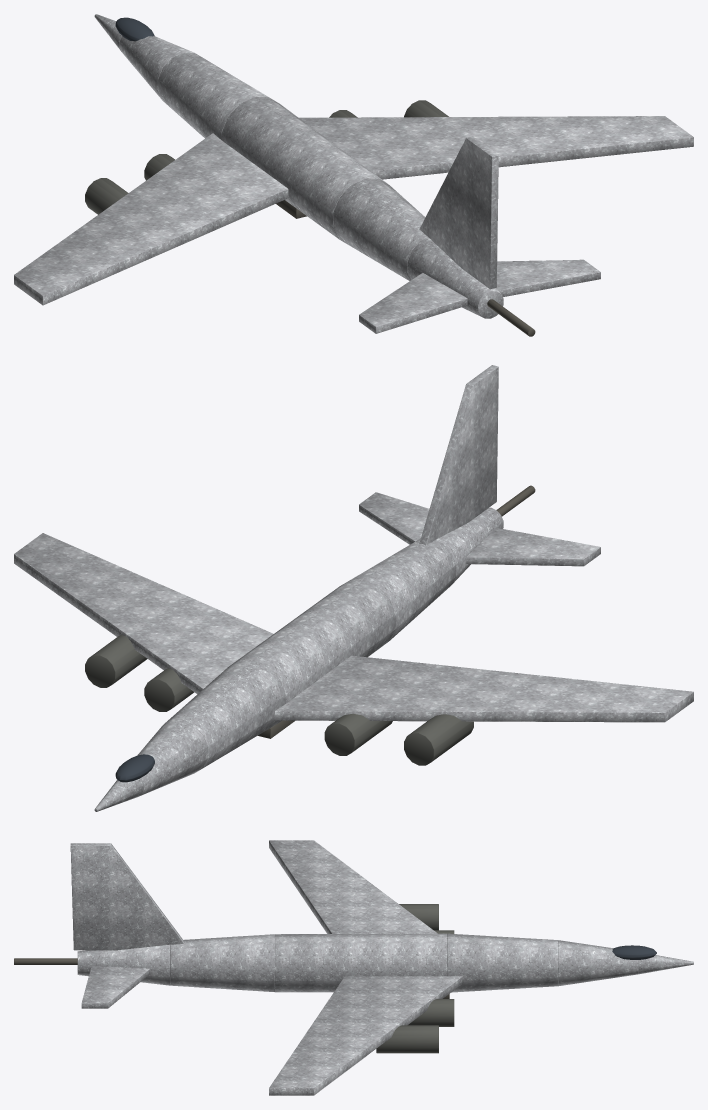
File: mpa_e1_us_maritime_LOD0.glb
The picture shows the model from 3 angles, top to bottom: view 1: azimuth 30°, elevation 25°; view 2: azimuth 150°, elevation 25°; view 3: azimuth 270°, elevation 25°; orthographic projection. The views are drawn at different scales.
Visible parts, largest first — view 1: mpa_e1_us_maritime_LOD0_body, mpa_e1_us_maritime_LOD0_gun, mpa_e1_us_maritime_LOD0_deck, mpa_e1_us_maritime_LOD0_glass; view 2: mpa_e1_us_maritime_LOD0_body, mpa_e1_us_maritime_LOD0_gun, mpa_e1_us_maritime_LOD0_glass, mpa_e1_us_maritime_LOD0_deck; view 3: mpa_e1_us_maritime_LOD0_body, mpa_e1_us_maritime_LOD0_gun, mpa_e1_us_maritime_LOD0_glass, mpa_e1_us_maritime_LOD0_deck.
Part boxes in pixels (x1,y1,x2,y2): mpa_e1_us_maritime_LOD0_body: (14, 14, 693, 333); mpa_e1_us_maritime_LOD0_gun: (85, 100, 448, 214); mpa_e1_us_maritime_LOD0_deck: (276, 200, 535, 336); mpa_e1_us_maritime_LOD0_glass: (115, 17, 154, 41); mpa_e1_us_maritime_LOD0_body: (14, 365, 693, 811); mpa_e1_us_maritime_LOD0_gun: (85, 634, 473, 765); mpa_e1_us_maritime_LOD0_glass: (115, 754, 154, 782); mpa_e1_us_maritime_LOD0_deck: (258, 485, 535, 738); mpa_e1_us_maritime_LOD0_body: (70, 840, 693, 1095); mpa_e1_us_maritime_LOD0_gun: (376, 904, 454, 1053); mpa_e1_us_maritime_LOD0_glass: (612, 945, 656, 959); mpa_e1_us_maritime_LOD0_deck: (14, 958, 449, 998).
Bounding box in the file's own units: 37.6 × 10.55 × 43.58.
Materials: 4 (1 with a texture image).
